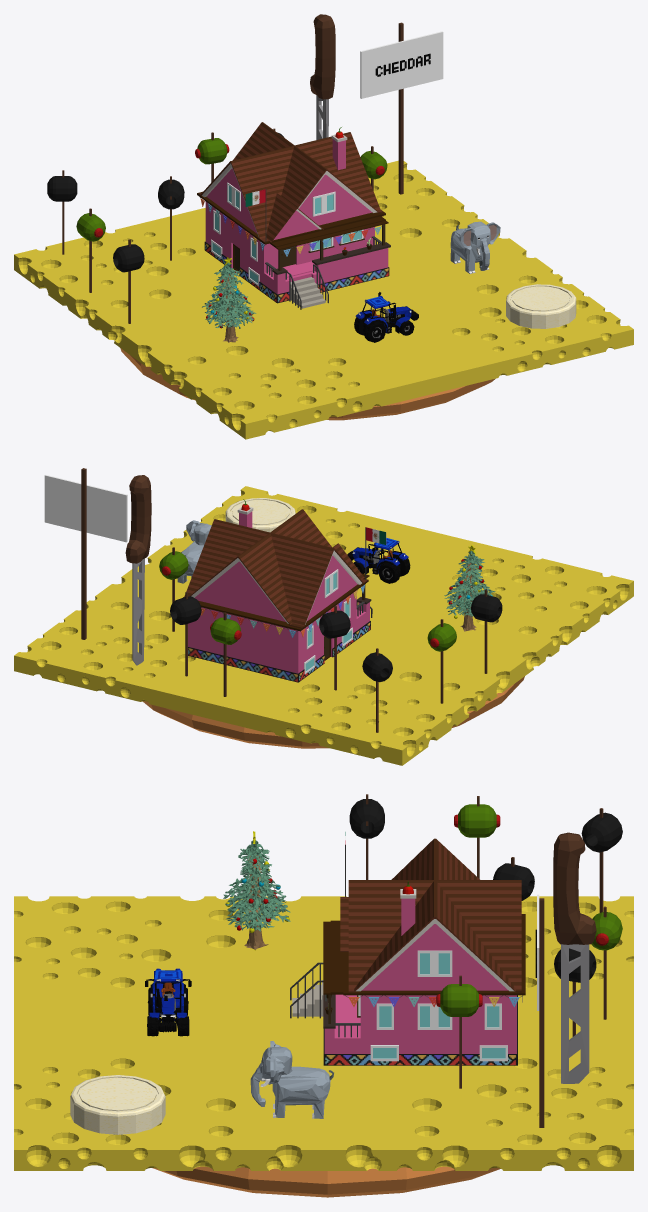
3 renders of one model, top to bottom at view 1: azimuth 30°, elevation 25°; view 2: azimuth 150°, elevation 25°; view 3: azimuth 270°, elevation 25°, orthographic. The views are drawn at different scales.
Parts seen in each view (by area): view 1: Cube.022, Cube.1005, Cube.023, Cylinder.016, Cube.024, OBJRANDOM_CHRISTMAS_TREE, UNDERGROUND_PIZZA, VEHICLES_TRACTOR, ANIMAL_ELEFANTE, Sphere.017, Sphere.016, Sphere.018 (+3 smaller); view 2: Cube.022, Cube.1005, Cube.023, Cube.024, UNDERGROUND_PIZZA, OBJRANDOM_CHRISTMAS_TREE, VEHICLES_TRACTOR, Cylinder.016, Sphere.017, ANIMAL_ELEFANTE, Sphere.022, Sphere.020 (+4 smaller); view 3: Cube.022, Cube.1005, Cube.024, UNDERGROUND_PIZZA, Cylinder.016, OBJRANDOM_CHRISTMAS_TREE, ANIMAL_ELEFANTE, VEHICLES_TRACTOR, Cube.023, Sphere.016, Sphere.019, Sphere.018 (+4 smaller).
Boxes of the visible parts, bbox=[...] form: Cube.022: bbox=[14, 160, 633, 439]; Cube.1005: bbox=[197, 122, 390, 309]; Cube.023: bbox=[360, 22, 443, 194]; Cylinder.016: bbox=[506, 284, 576, 328]; Cube.024: bbox=[310, 14, 335, 139]; OBJRANDOM_CHRISTMAS_TREE: bbox=[202, 257, 256, 342]; UNDERGROUND_PIZZA: bbox=[120, 348, 495, 420]; VEHICLES_TRACTOR: bbox=[354, 292, 418, 342]; ANIMAL_ELEFANTE: bbox=[450, 221, 500, 273]; Sphere.017: bbox=[113, 239, 144, 323]; Sphere.016: bbox=[47, 170, 77, 254]; Sphere.018: bbox=[76, 208, 105, 292]; Cube.022: bbox=[14, 486, 633, 765]; Cube.1005: bbox=[183, 499, 386, 682]; Cube.023: bbox=[44, 468, 127, 639]; Cube.024: bbox=[125, 475, 151, 665]; UNDERGROUND_PIZZA: bbox=[143, 676, 524, 748]; OBJRANDOM_CHRISTMAS_TREE: bbox=[444, 545, 495, 631]; VEHICLES_TRACTOR: bbox=[347, 538, 410, 583]; Cylinder.016: bbox=[225, 498, 295, 532]; Sphere.017: bbox=[471, 589, 502, 673]; ANIMAL_ELEFANTE: bbox=[177, 520, 211, 583]; Sphere.022: bbox=[210, 612, 241, 696]; Sphere.020: bbox=[319, 606, 350, 690]; Cube.022: bbox=[14, 896, 633, 1170]; Cube.1005: bbox=[290, 832, 525, 1065]; Cube.024: bbox=[553, 832, 596, 1083]; UNDERGROUND_PIZZA: bbox=[152, 1166, 500, 1197]; Cylinder.016: bbox=[70, 1075, 165, 1134]; OBJRANDOM_CHRISTMAS_TREE: bbox=[223, 831, 290, 950]; ANIMAL_ELEFANTE: bbox=[250, 1041, 333, 1118]; VEHICLES_TRACTOR: bbox=[145, 968, 191, 1036]; Cube.023: bbox=[535, 894, 544, 1127]; Sphere.016: bbox=[581, 808, 622, 912]; Sphere.019: bbox=[436, 975, 482, 1088]; Sphere.018: bbox=[454, 796, 500, 878].
Size of the model in its own units: 3917 by 2219 by 4000.
76 materials, 5 textured.
